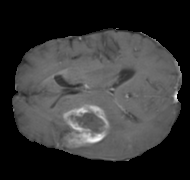Edema: (62, 101, 138, 155)
EnhancingTumors: (63, 104, 109, 147)
Necrosis: (69, 112, 103, 132)
